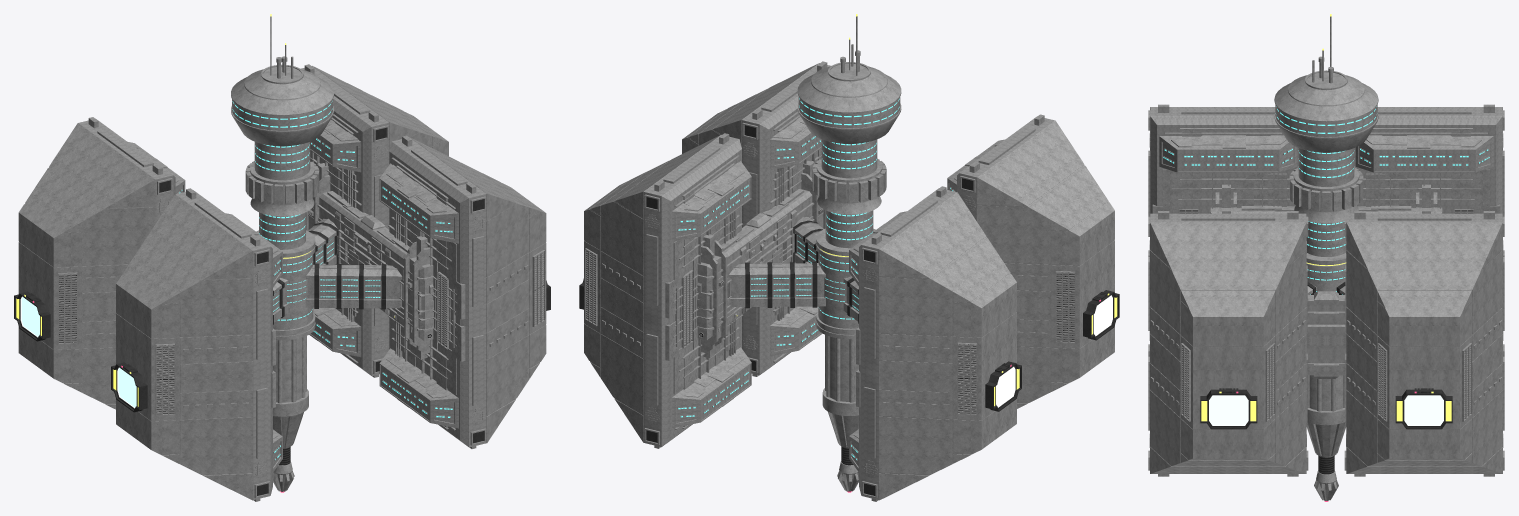
Rendered from big_ship.glb.
3 views of the same model, side by side, from view 1: azimuth 30°, elevation 25°; view 2: azimuth 150°, elevation 25°; view 3: azimuth 270°, elevation 25° (orthographic).
Visible parts, largest first — view 1: HullPlates, OuterSection, CentralSection, MainGreebles2, Bridges, CentralSectionGreebles, MainGreebles, Docks, OuterSectionConnectors, OuterSectionHolders; view 2: HullPlates, OuterSection, CentralSection, MainGreebles2, Bridges, CentralSectionGreebles, MainGreebles, Docks, OuterSectionConnectors, OuterSectionHolders; view 3: HullPlates, OuterSection, CentralSection, MainGreebles2, Docks, OuterSectionConnectors, CentralSectionGreebles, OuterSectionHolders, MainGreebles, Antennas.
Boxes of the visible parts, x1=… form: HullPlates: x1=18, y1=66, x2=546, y2=500; OuterSection: x1=19, y1=64, x2=545, y2=501; CentralSection: x1=231, y1=64, x2=333, y2=492; MainGreebles2: x1=128, y1=114, x2=465, y2=438; Bridges: x1=273, y1=218, x2=402, y2=324; CentralSectionGreebles: x1=245, y1=161, x2=319, y2=491; MainGreebles: x1=308, y1=191, x2=434, y2=338; Docks: x1=14, y1=280, x2=550, y2=412; OuterSectionConnectors: x1=317, y1=192, x2=433, y2=341; OuterSectionHolders: x1=306, y1=163, x2=429, y2=359; HullPlates: x1=584, y1=63, x2=1114, y2=500; OuterSection: x1=584, y1=61, x2=1114, y2=501; CentralSection: x1=797, y1=62, x2=901, y2=492; MainGreebles2: x1=665, y1=111, x2=1004, y2=438; Bridges: x1=728, y1=217, x2=858, y2=323; CentralSectionGreebles: x1=812, y1=158, x2=886, y2=491; MainGreebles: x1=696, y1=189, x2=823, y2=337; Docks: x1=579, y1=278, x2=1119, y2=411; OuterSectionConnectors: x1=696, y1=190, x2=814, y2=340; OuterSectionHolders: x1=701, y1=160, x2=825, y2=358; HullPlates: x1=1150, y1=107, x2=1502, y2=473; OuterSection: x1=1148, y1=104, x2=1504, y2=476; CentralSection: x1=1274, y1=70, x2=1378, y2=501; MainGreebles2: x1=1152, y1=128, x2=1500, y2=213; Docks: x1=1200, y1=388, x2=1452, y2=429; OuterSectionConnectors: x1=1210, y1=207, x2=1442, y2=378; CentralSectionGreebles: x1=1289, y1=167, x2=1363, y2=500; OuterSectionHolders: x1=1215, y1=184, x2=1437, y2=213; MainGreebles: x1=1241, y1=205, x2=1411, y2=375; Antennas: x1=1312, y1=14, x2=1333, y2=83.
Bounding box in the file's own units: 360 × 399 × 268.
8 materials, 2 textured.
